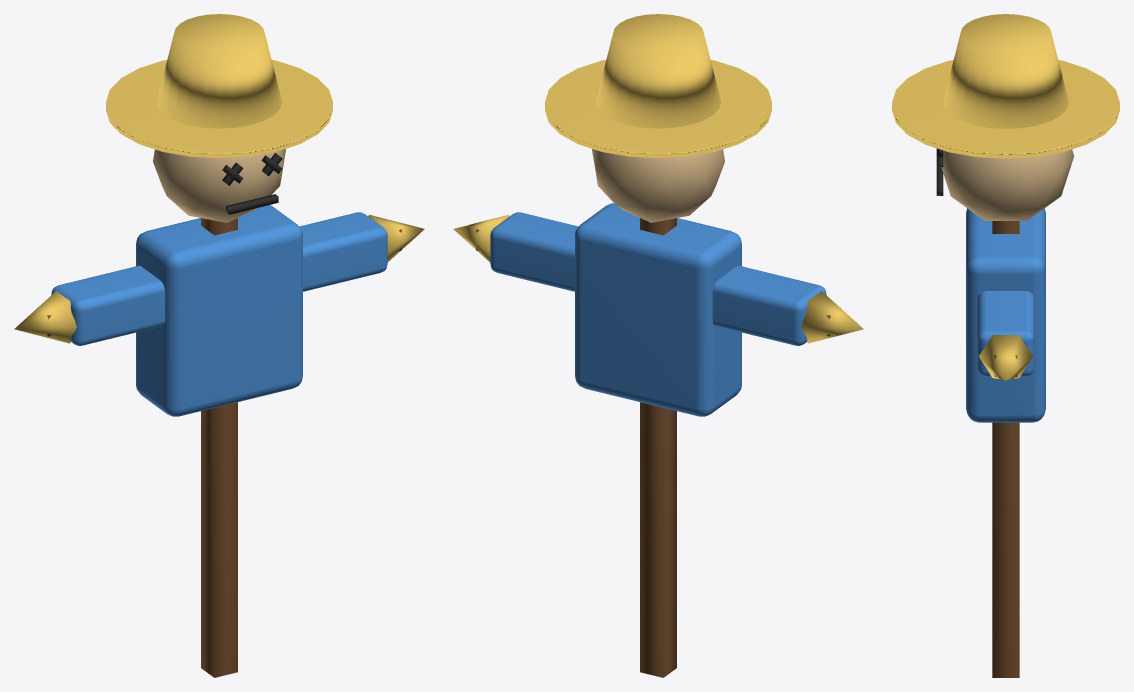
File: scarecrow.glb
3 views of the same model, side by side, from view 1: azimuth 30°, elevation 25°; view 2: azimuth 150°, elevation 25°; view 3: azimuth 270°, elevation 25° (orthographic).
Parts seen in each view (by area): view 1: Scarecrow; view 2: Scarecrow; view 3: Scarecrow.
Part boxes in pixels (x1=…): Scarecrow: x1=14, y1=14, x2=424, y2=677; Scarecrow: x1=453, y1=14, x2=863, y2=677; Scarecrow: x1=892, y1=14, x2=1119, y2=677.
Size of the model in its own units: 2.09 by 3.1 by 1.
